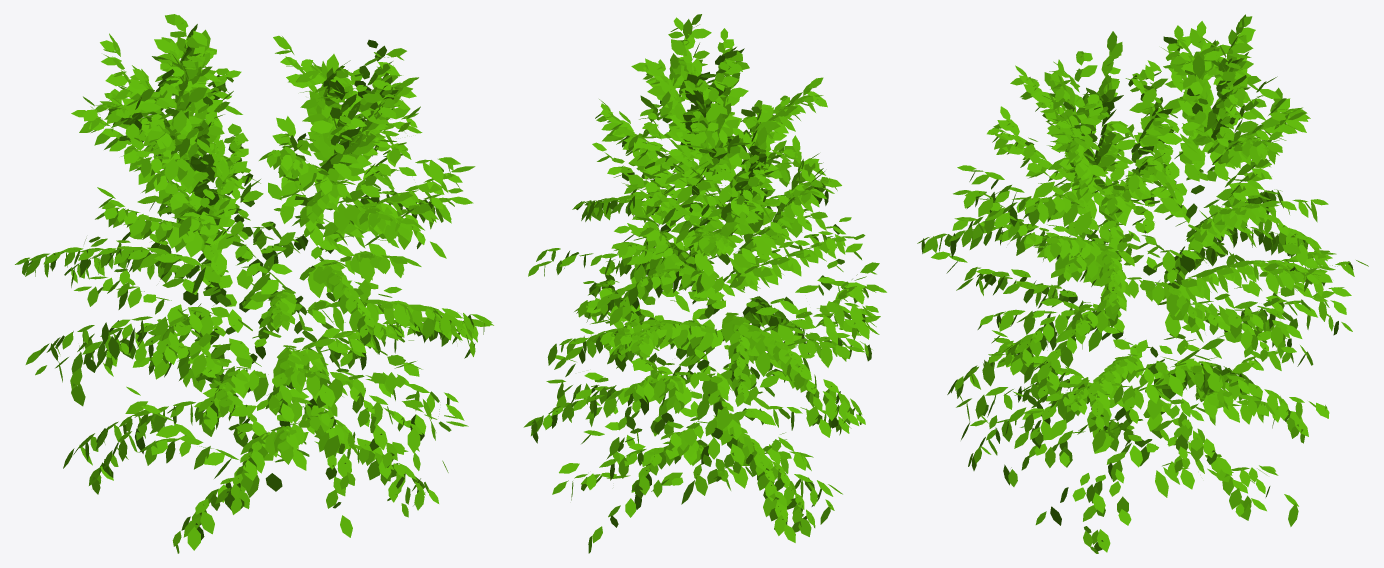
File: TREE_LEAF_5.fbx
The picture shows the model from 3 angles, left to right: view 1: azimuth 30°, elevation 25°; view 2: azimuth 150°, elevation 25°; view 3: azimuth 270°, elevation 25°; orthographic projection. The views are drawn at different scales.
Visible parts, largest first — view 1: leaves.007; view 2: leaves.007; view 3: leaves.007.
Boxes of the visible parts, box(x1,y1,x2,y2) form: leaves.007: box(15, 14, 493, 553); leaves.007: box(523, 14, 886, 553); leaves.007: box(917, 14, 1368, 553).
Size of the model in its own units: 984 by 1221 by 1071.
